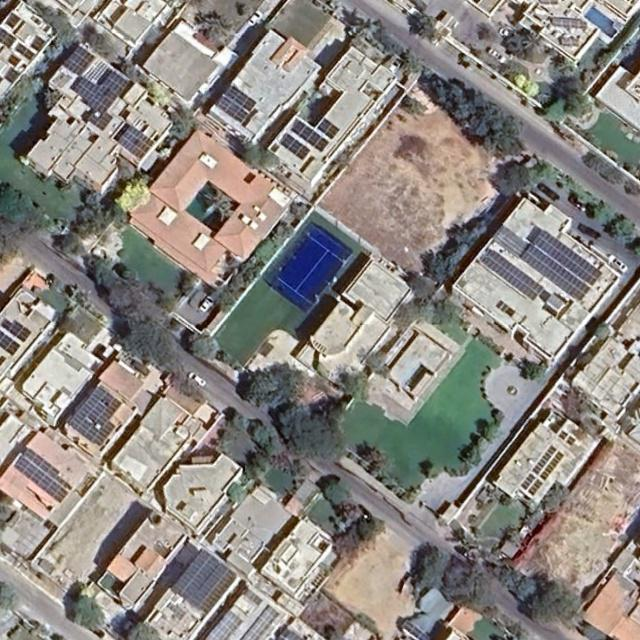solar panel: (172, 548, 238, 615), (521, 244, 591, 302), (533, 229, 602, 286), (69, 384, 130, 447), (13, 447, 76, 504), (481, 249, 544, 301), (72, 56, 129, 113), (117, 124, 155, 160), (240, 605, 279, 640), (203, 609, 243, 640), (292, 120, 329, 152), (63, 43, 96, 77), (215, 96, 248, 124), (225, 86, 258, 113), (280, 134, 311, 160), (532, 444, 557, 475), (2, 316, 31, 342), (540, 452, 564, 480), (87, 106, 113, 131), (0, 330, 21, 357), (317, 118, 340, 140), (552, 17, 588, 29), (0, 25, 17, 49), (15, 43, 34, 60), (520, 473, 536, 490), (528, 479, 544, 496), (4, 68, 20, 84), (5, 13, 20, 29), (30, 36, 45, 51), (8, 55, 20, 66), (566, 436, 576, 446), (559, 431, 568, 440)
